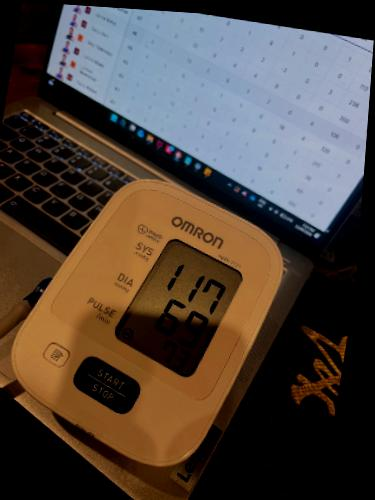bpm: (108, 229, 250, 381)
